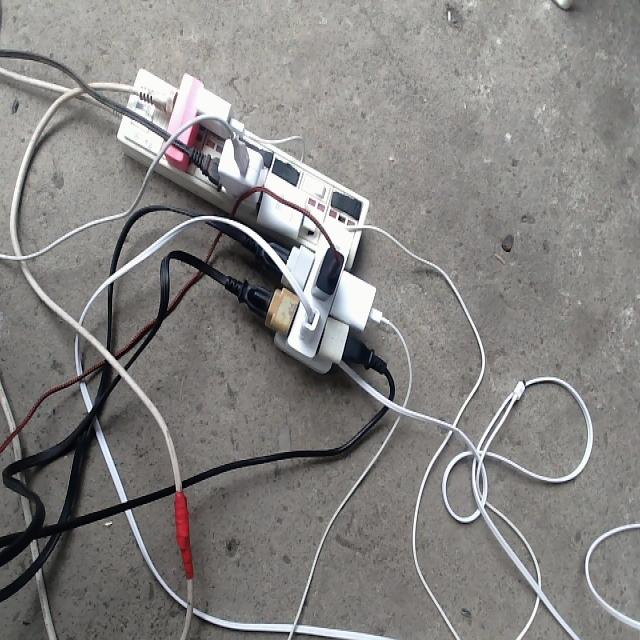-: (117, 64, 376, 376)
